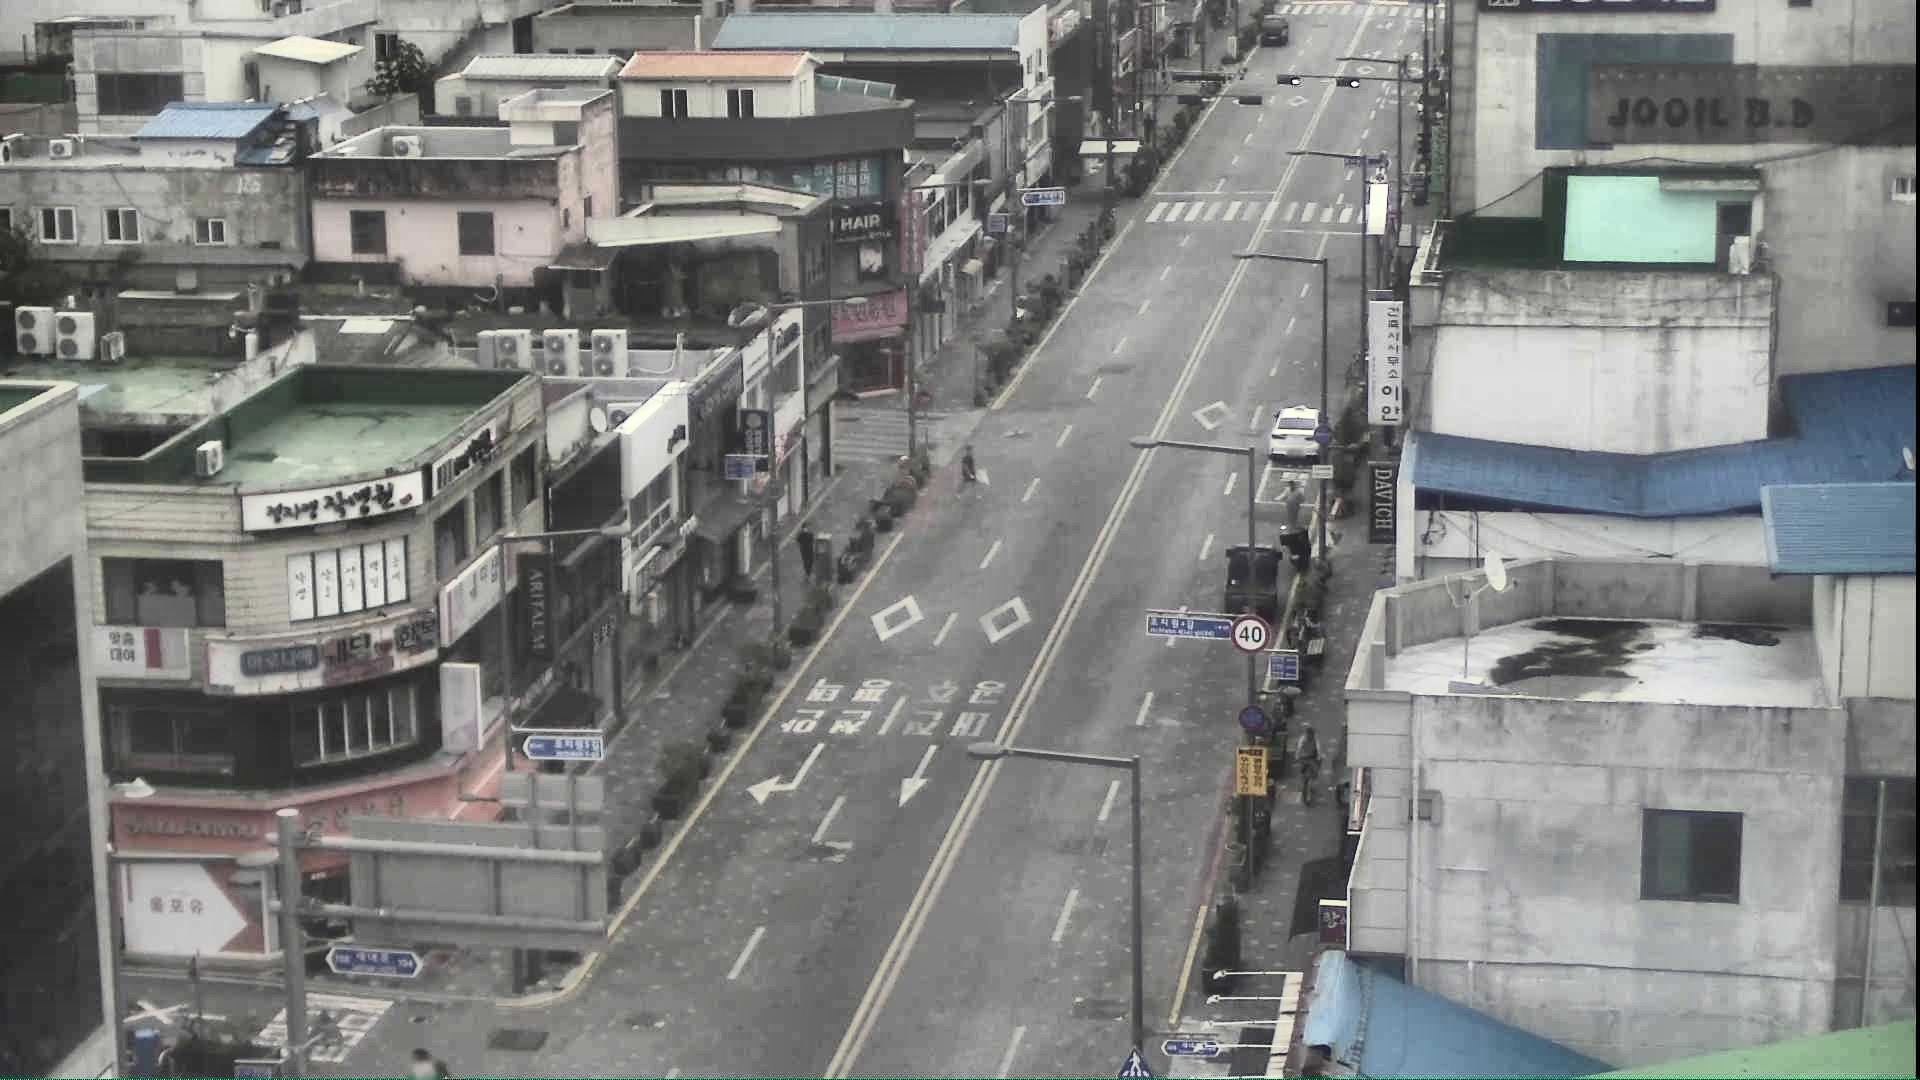jaywalk: (952, 443, 986, 504), (1295, 721, 1320, 790), (1278, 476, 1305, 537)
sidewalk: (793, 520, 818, 583)
